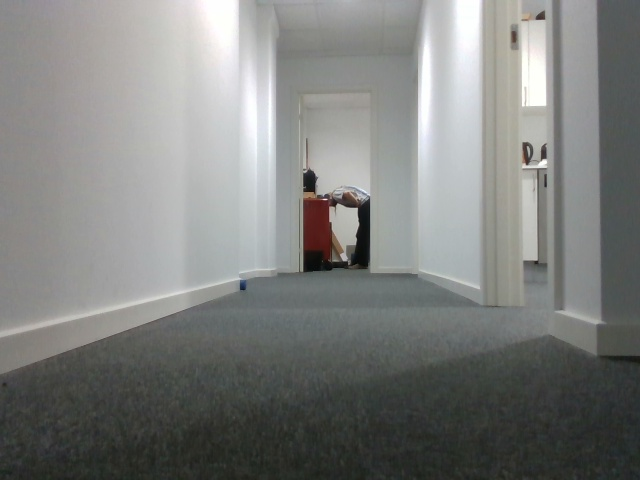alfa: (237, 277, 249, 293)
